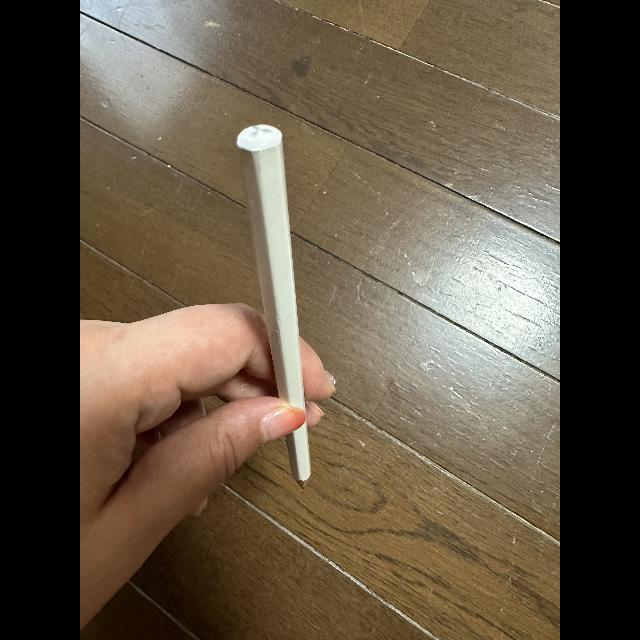pencil: (236, 124, 308, 412), (287, 414, 310, 482)
